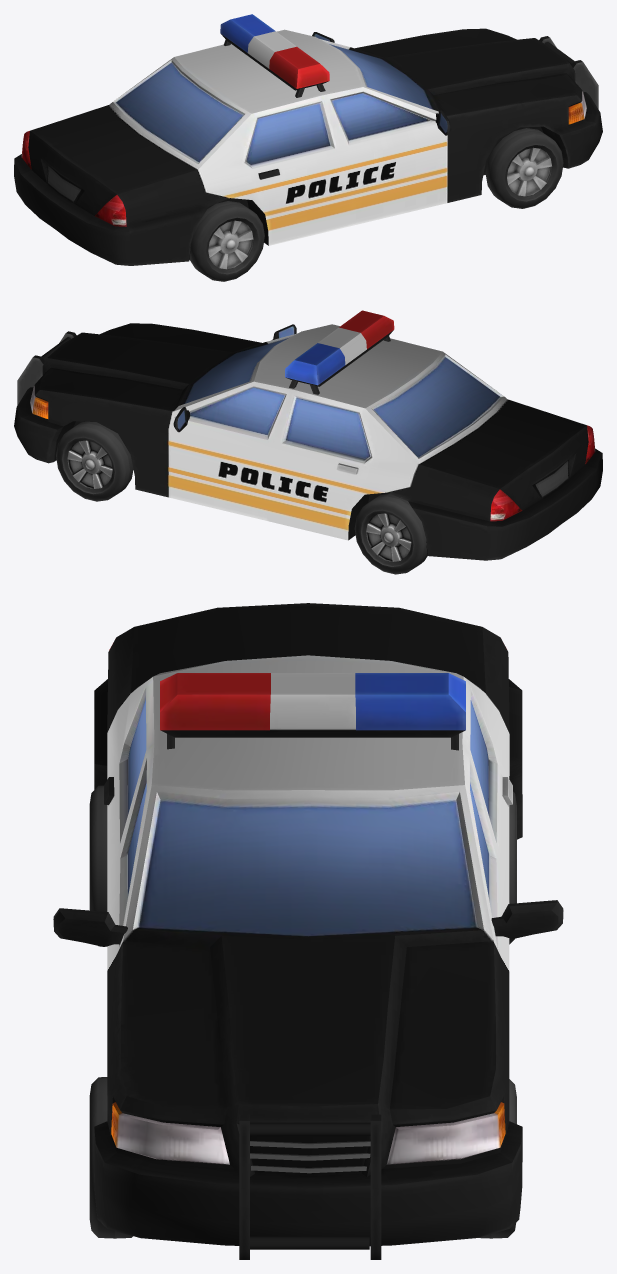
Rendered from police.glb.
3 views of the same model, one above another, from view 1: azimuth 30°, elevation 25°; view 2: azimuth 150°, elevation 25°; view 3: azimuth 270°, elevation 25° (orthographic). The views are drawn at different scales.
Visible parts, largest first — view 1: Object_2; view 2: Object_2; view 3: Object_2.
Part boxes in pixels (x1,y1,x2,y2): Object_2: (14, 14, 602, 281); Object_2: (14, 310, 602, 574); Object_2: (53, 603, 563, 1259).
Size of the model in its own units: 5.69 by 1.8 by 2.36.
1 material, 1 textured.
